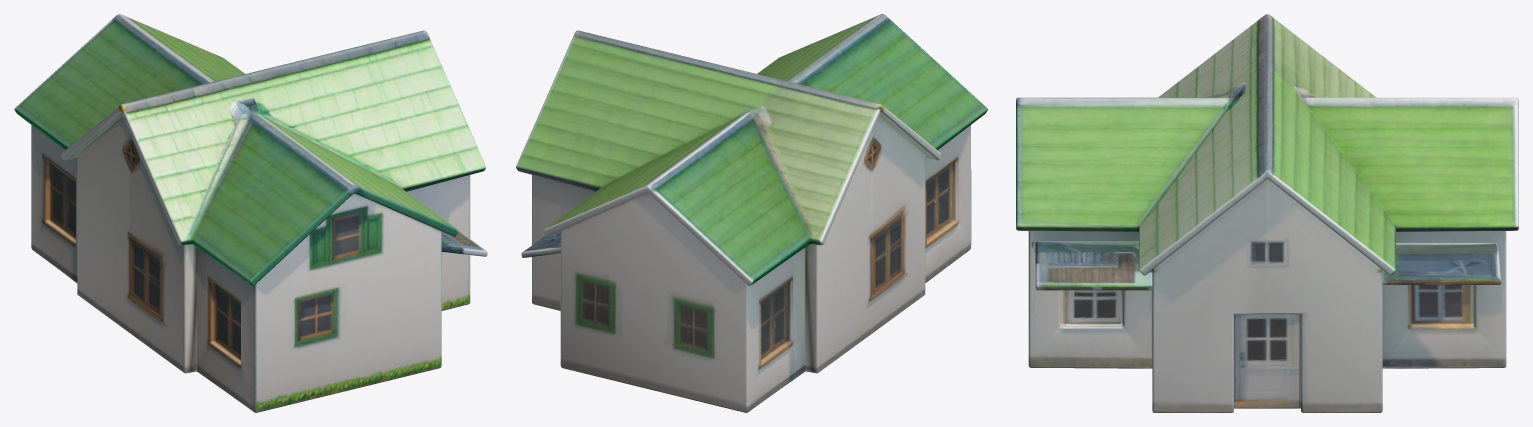
Rendered from Casita5_0415213811_texture.fbx.
3 renders of one model, left to right at view 1: azimuth 30°, elevation 25°; view 2: azimuth 150°, elevation 25°; view 3: azimuth 270°, elevation 25°, orthographic. The views are drawn at different scales.
Parts seen in each view (by area): view 1: Mesh_0; view 2: Mesh_0; view 3: Mesh_0.
Part boxes in pixels (left/top/right/bottom): Mesh_0: left=14, top=14, right=487, bottom=412; Mesh_0: left=516, top=14, right=987, bottom=412; Mesh_0: left=1016, top=14, right=1518, bottom=412.
Size of the model in its own units: 149 by 108 by 200.
1 material, 1 textured.
